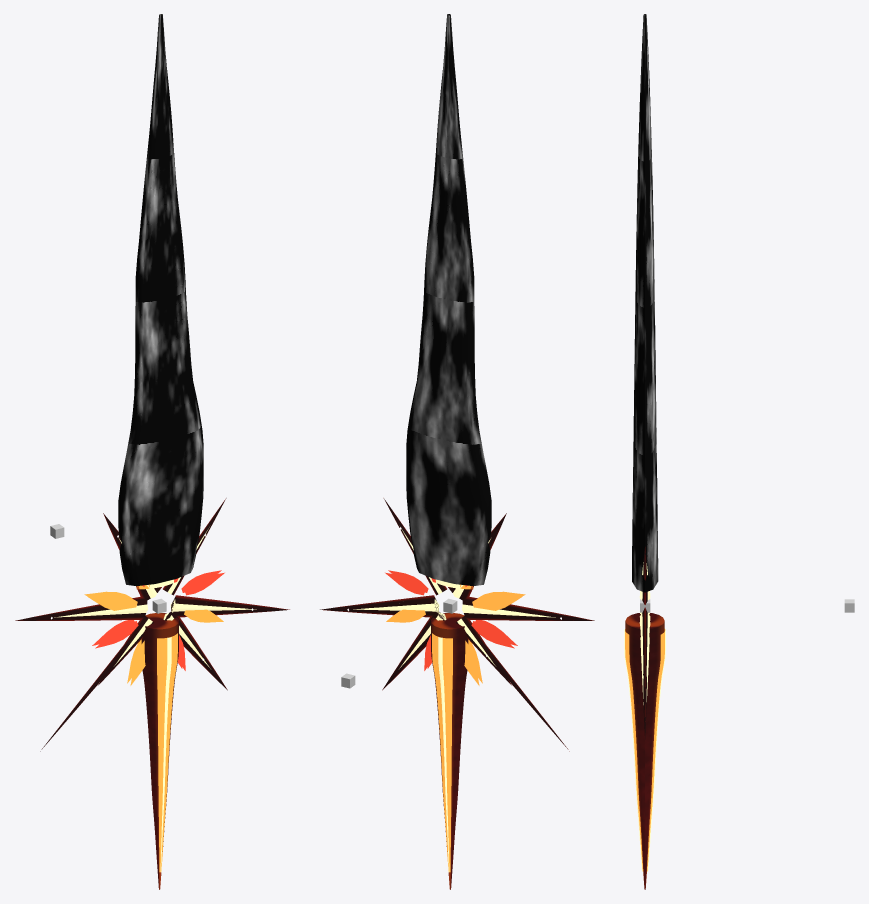
The model's file is StarburstSword.glb.
The picture shows the model from 3 angles, left to right: view 1: azimuth 30°, elevation 25°; view 2: azimuth 150°, elevation 25°; view 3: azimuth 270°, elevation 25°; orthographic projection.
Visible parts, largest first — view 1: Aura, Shell, GlowOrange, Handle, GlowYellow, FlameRed; view 2: Aura, Shell, GlowOrange, Handle, GlowYellow, FlameRed; view 3: Aura, Handle, GlowOrange, GlowYellow, Shell.
Boxes of the visible parts, x1,y1,x2,y2 form: Aura: (118, 14, 203, 586); Shell: (15, 498, 289, 751); GlowOrange: (84, 584, 223, 872); Handle: (141, 613, 178, 889); GlowYellow: (54, 527, 256, 871); FlameRed: (92, 570, 224, 670); Aura: (406, 14, 491, 586); Shell: (320, 498, 594, 751); GlowOrange: (386, 584, 525, 872); Handle: (431, 613, 468, 889); GlowYellow: (353, 529, 555, 871); FlameRed: (385, 570, 517, 670); Aura: (632, 14, 658, 592); Handle: (625, 613, 664, 889); GlowOrange: (625, 629, 665, 871); GlowYellow: (624, 562, 665, 871); Shell: (642, 547, 647, 739).
Bounding box in the file's own units: 1.56 × 4.72 × 1.13.
7 materials, 3 textured.
